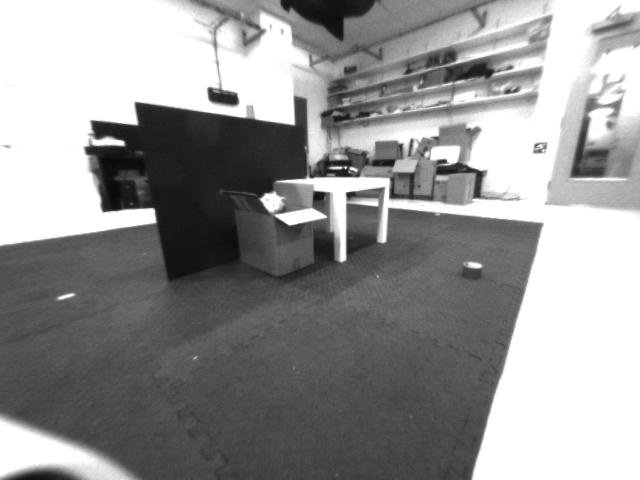dogtoy: (448, 250, 490, 283)
